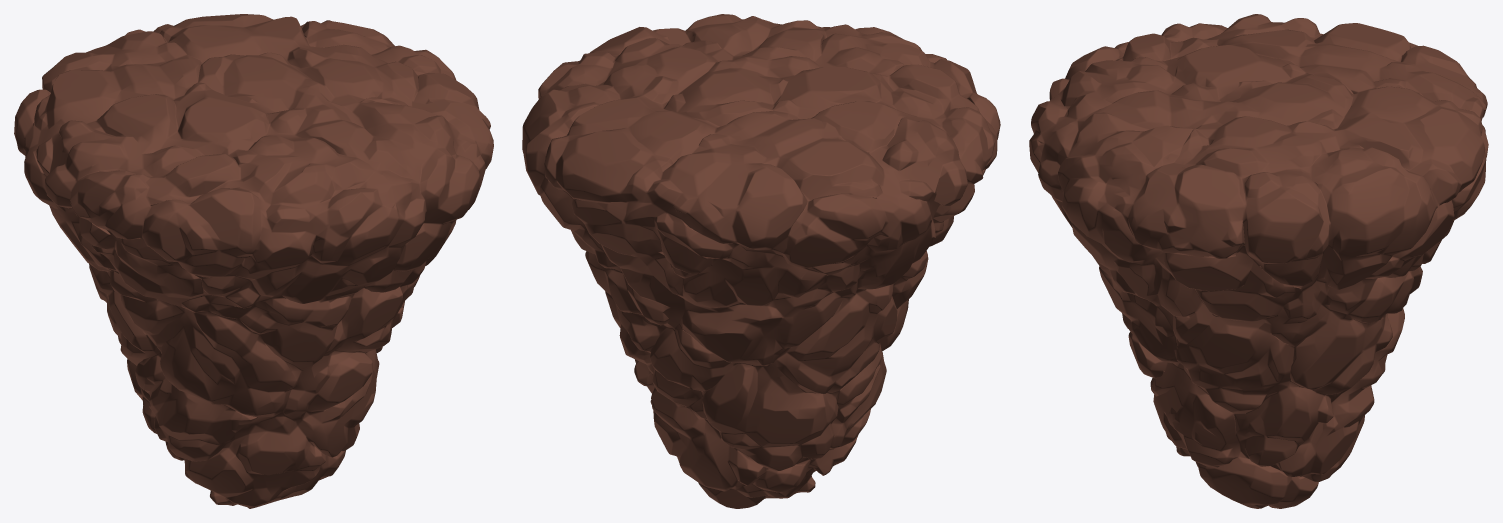
File: Rock4.fbx
3 views of the same model, side by side, from view 1: azimuth 30°, elevation 25°; view 2: azimuth 150°, elevation 25°; view 3: azimuth 270°, elevation 25° (orthographic).
Visible parts, largest first — view 1: Cube; view 2: Cube; view 3: Cube.
Boxes of the visible parts, left/top/right/bottom form: Cube: left=14, top=14, right=493, bottom=508; Cube: left=522, top=14, right=1000, bottom=508; Cube: left=1029, top=14, right=1488, bottom=508.
Bounding box in the file's own units: 1884 × 1873 × 1858.
